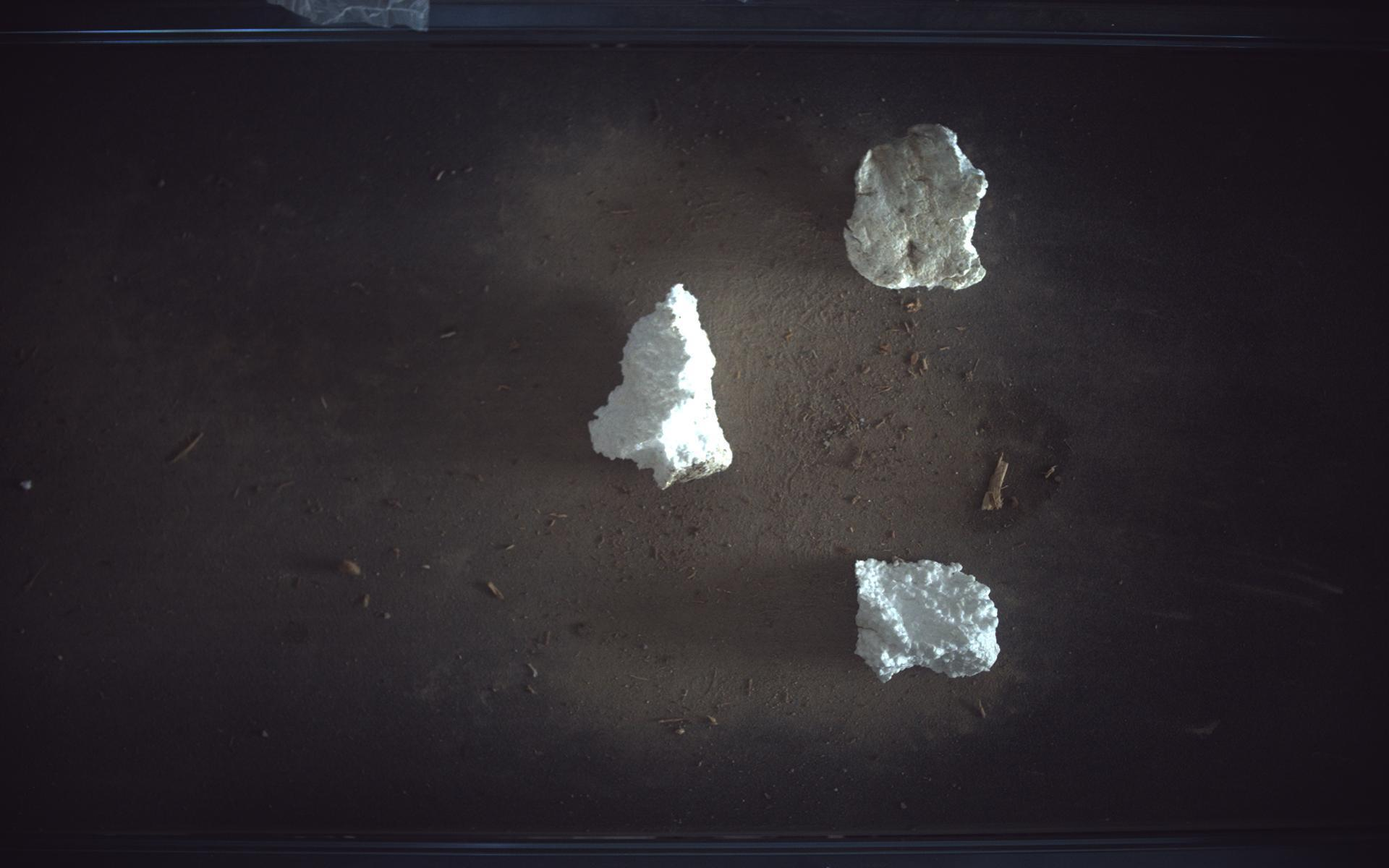foam: (589, 284, 734, 489), (846, 123, 990, 289), (857, 559, 1002, 682)
